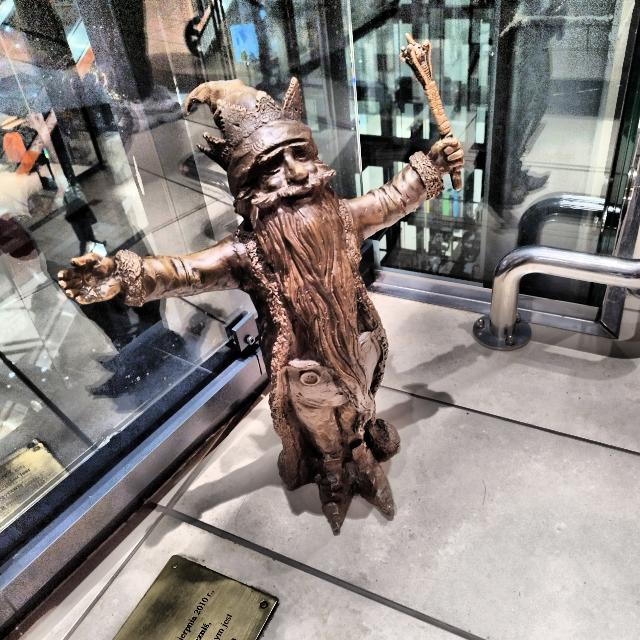Serdecznis: (56, 31, 465, 536)
